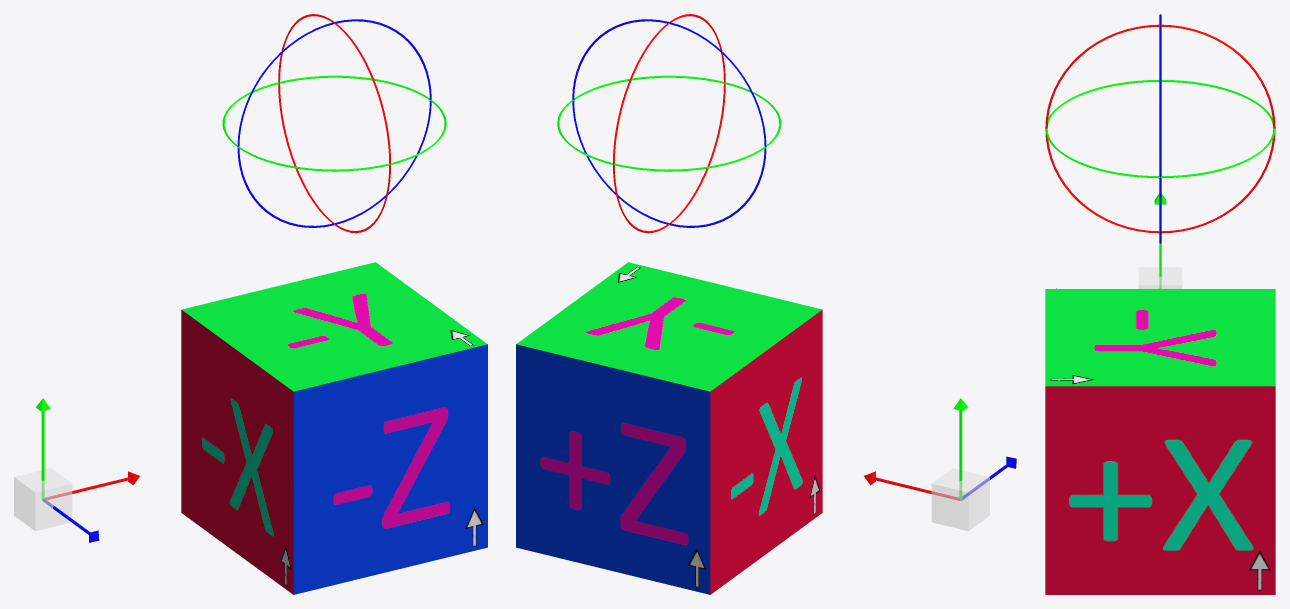
The model's file is MultiScene.glb.
3 renders of one model, left to right at view 1: azimuth 30°, elevation 25°; view 2: azimuth 150°, elevation 25°; view 3: azimuth 270°, elevation 25°, orthographic. The views are drawn at different scales.
Parts seen in each view (by area): view 1: CubeXYZ, Rotator, Translator; view 2: CubeXYZ, Rotator, Translator; view 3: CubeXYZ, Rotator, Translator.
Part boxes in pixels (x1,y1,x2,y2): CubeXYZ: (181,262,487,594); Rotator: (222,14,446,233); Translator: (14,398,139,542); CubeXYZ: (516,262,822,594); Rotator: (557,14,781,233); Translator: (864,398,1016,530); CubeXYZ: (1045,289,1275,594); Rotator: (1045,14,1275,243); Translator: (1056,194,1182,288).
Bounding box in the file's own units: 4.19 × 5 × 2.
16 materials, 6 textured.
